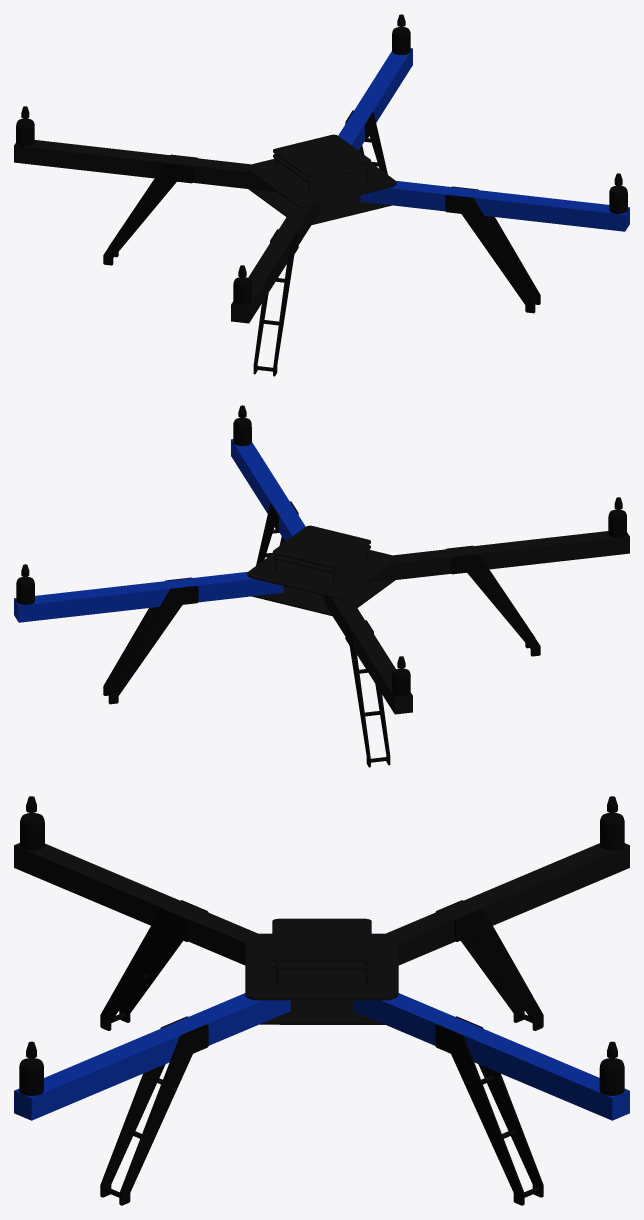
Rendered from 3DR_Arducopter.dae.
3 renders of one model, top to bottom at view 1: azimuth 30°, elevation 25°; view 2: azimuth 150°, elevation 25°; view 3: azimuth 270°, elevation 25°, orthographic. The views are drawn at different scales.
Visible parts, largest first — view 1: Motori_001; view 2: Motori_001; view 3: Motori_001.
Boxes of the visible parts, box(x1,y1,x2,y2) form: Motori_001: box(14, 14, 629, 376); Motori_001: box(14, 405, 629, 767); Motori_001: box(14, 796, 629, 1205).
Size of the model in its own units: 0.4707 by 0.4707 by 0.1622.
